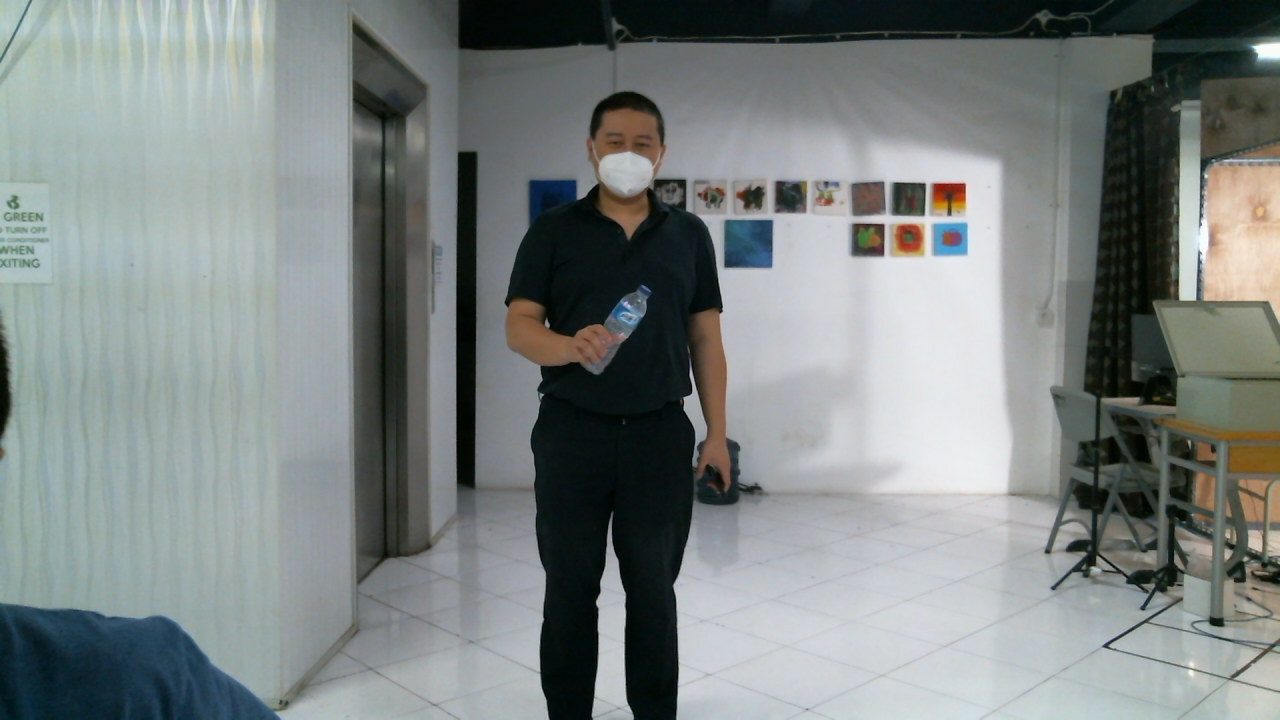Bottle: (586, 279, 651, 369)
